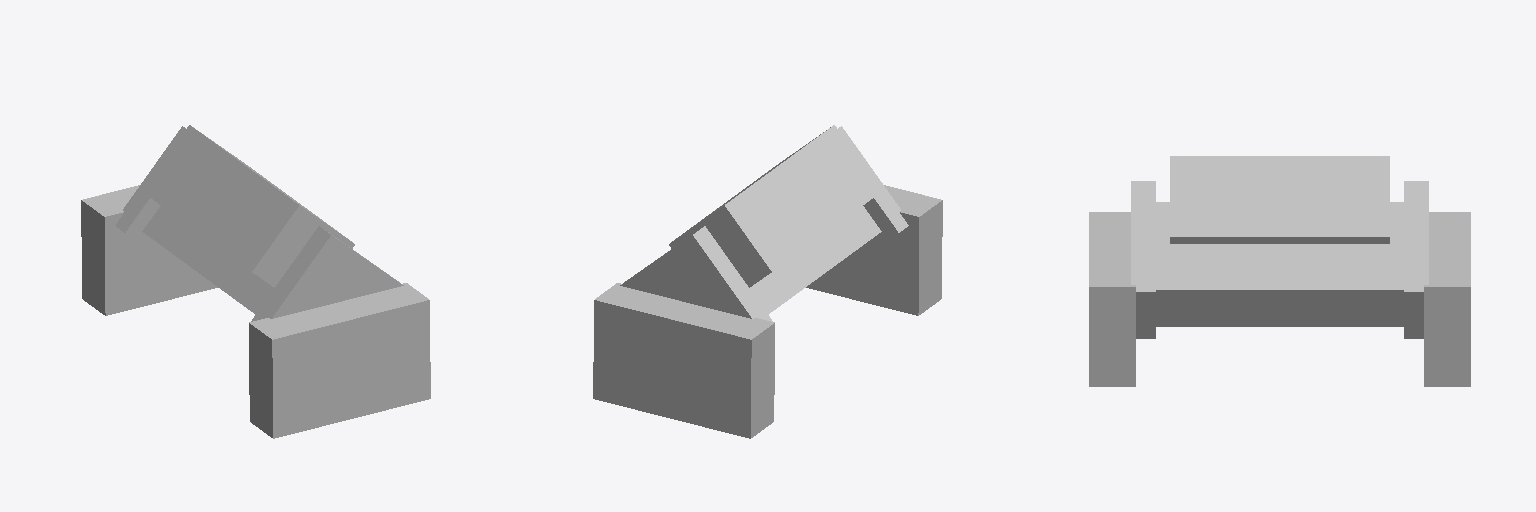
The model's file is magincr.obj.
3 renders of one model, left to right at view 1: azimuth 30°, elevation 25°; view 2: azimuth 150°, elevation 25°; view 3: azimuth 270°, elevation 25°, orthographic.
Visible parts, largest first — view 1: Box005; view 2: Box005; view 3: Box005.
Boxes of the visible parts, x1=… form: Box005: x1=81, y1=125, x2=430, y2=438; Box005: x1=593, y1=125, x2=942, y2=438; Box005: x1=1089, y1=156, x2=1470, y2=386.
Bounding box in the file's own units: 178 × 202 × 372.